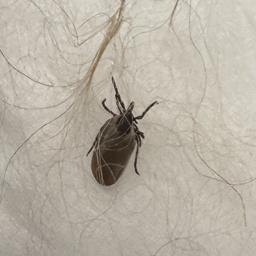Ixodes scapularis: (88, 77, 157, 187)
